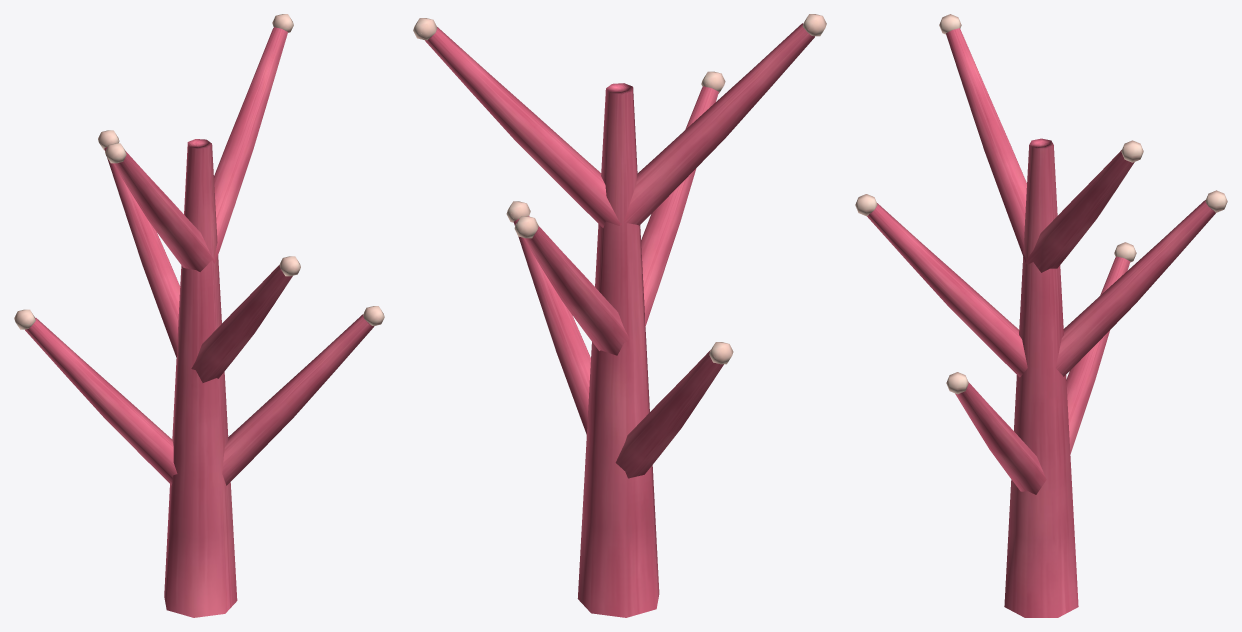
File: coral_branch.glb
3 views of the same model, side by side, from view 1: azimuth 30°, elevation 25°; view 2: azimuth 150°, elevation 25°; view 3: azimuth 270°, elevation 25° (orthographic). The views are drawn at different scales.
Bounding box in the file's own units: 0.4552 × 0.7979 × 0.5142.
Materials: 1 (1 with a texture image).
